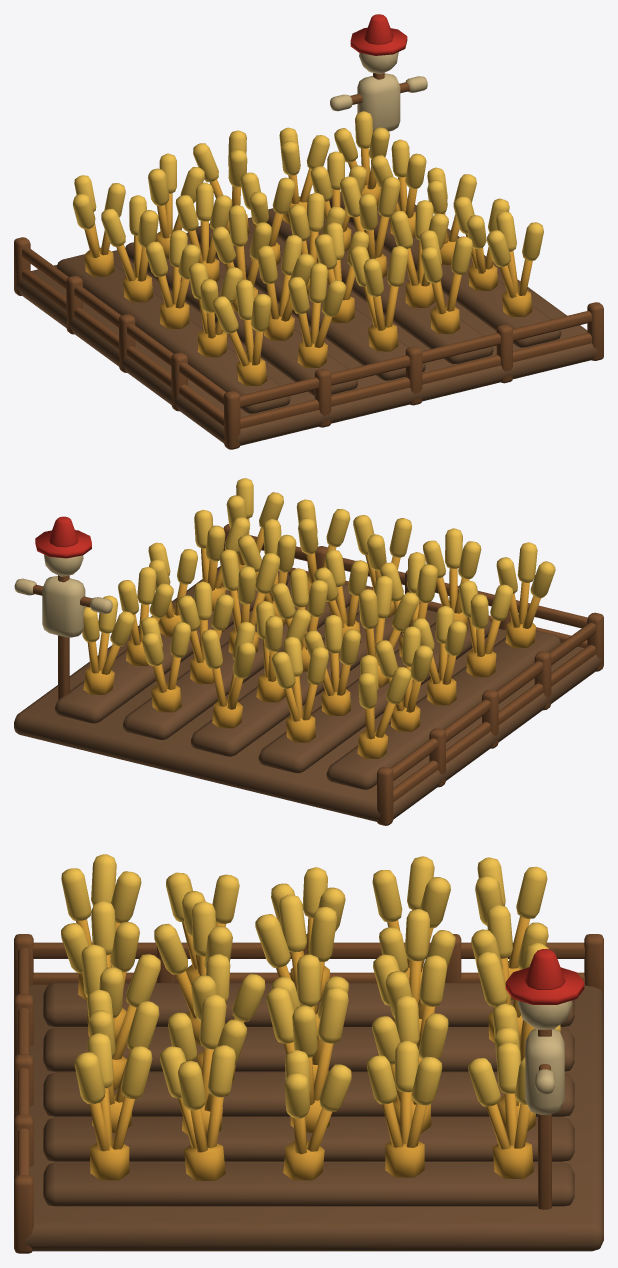
The model's file is Field.glb.
3 renders of one model, top to bottom at view 1: azimuth 30°, elevation 25°; view 2: azimuth 150°, elevation 25°; view 3: azimuth 270°, elevation 25°, orthographic. The views are drawn at different scales.
Parts seen in each view (by area): view 1: Field; view 2: Field; view 3: Field.
Part boxes in pixels (x1,y1,x2,y2): Field: [14, 14, 603, 449]; Field: [14, 478, 603, 825]; Field: [14, 854, 603, 1253].
Size of the model in its own units: 3.13 by 1.59 by 3.
